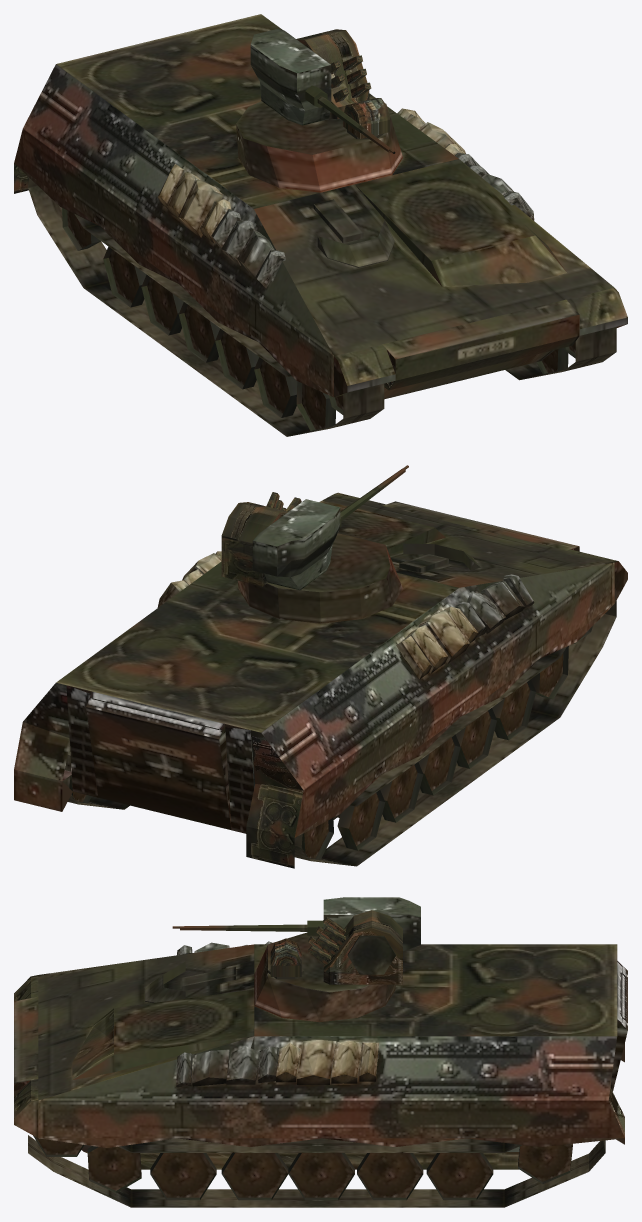
The picture shows the model from 3 angles, top to bottom: view 1: azimuth 30°, elevation 25°; view 2: azimuth 150°, elevation 25°; view 3: azimuth 270°, elevation 25°; orthographic projection. The views are drawn at different scales.
Parts seen in each view (by area): view 1: M1A2.Chassis, Turret, Tracks, Bagage, Cannon, Wheel.001, Wheel.002, Wheel.003, Wheel.006, Wheel.005, Wheel.004, Wheel.007 (+1 smaller); view 2: M1A2.Chassis, Ramp, Turret, Tracks, Bagage, Cannon, Wheel.006, Wheel.002, Wheel.005, Wheel.004, Wheel.003, Wheel.007 (+2 smaller); view 3: M1A2.Chassis, Tracks, Turret, Bagage, Cannon, Wheel.003, Wheel.006, Wheel.005, Wheel.004, Wheel.002, Wheel.001, Wheel.007 (+3 smaller).
Part boxes in pixels (x1,y1,x2,y2): M1A2.Chassis: (14, 14, 627, 399); Turret: (236, 29, 402, 192); Tracks: (28, 178, 616, 436); Bagage: (157, 108, 534, 288); Cannon: (250, 28, 331, 125); Wheel.001: (296, 348, 568, 430); Wheel.002: (254, 357, 297, 417); Wheel.003: (215, 328, 259, 389); Wheel.006: (103, 246, 146, 307); Wheel.005: (141, 274, 183, 335); Wheel.004: (178, 302, 219, 362); Wheel.007: (62, 208, 100, 250); M1A2.Chassis: (14, 492, 627, 868); Ramp: (86, 691, 231, 829); Turret: (221, 492, 402, 623); Tracks: (62, 601, 616, 866); Bagage: (157, 551, 534, 679); Cannon: (252, 499, 341, 590); Wheel.006: (335, 790, 385, 850); Wheel.002: (492, 679, 535, 740); Wheel.005: (380, 762, 423, 822); Wheel.004: (418, 734, 460, 795); Wheel.003: (455, 708, 496, 768); Wheel.007: (69, 774, 333, 859); M1A2.Chassis: (14, 944, 624, 1169); Tracks: (28, 1135, 605, 1207); Turret: (254, 910, 402, 1022); Bagage: (176, 941, 378, 1087); Cannon: (307, 897, 420, 974); Wheel.003: (221, 1153, 288, 1200); Wheel.006: (426, 1153, 493, 1200); Wheel.005: (357, 1153, 423, 1200); Wheel.004: (288, 1153, 354, 1200); Wheel.002: (150, 1153, 216, 1200); Wheel.001: (87, 1146, 141, 1193); Wheel.007: (518, 1143, 572, 1184).
Bounding box in the file's own units: 6.03 × 5.42 × 12.45.
